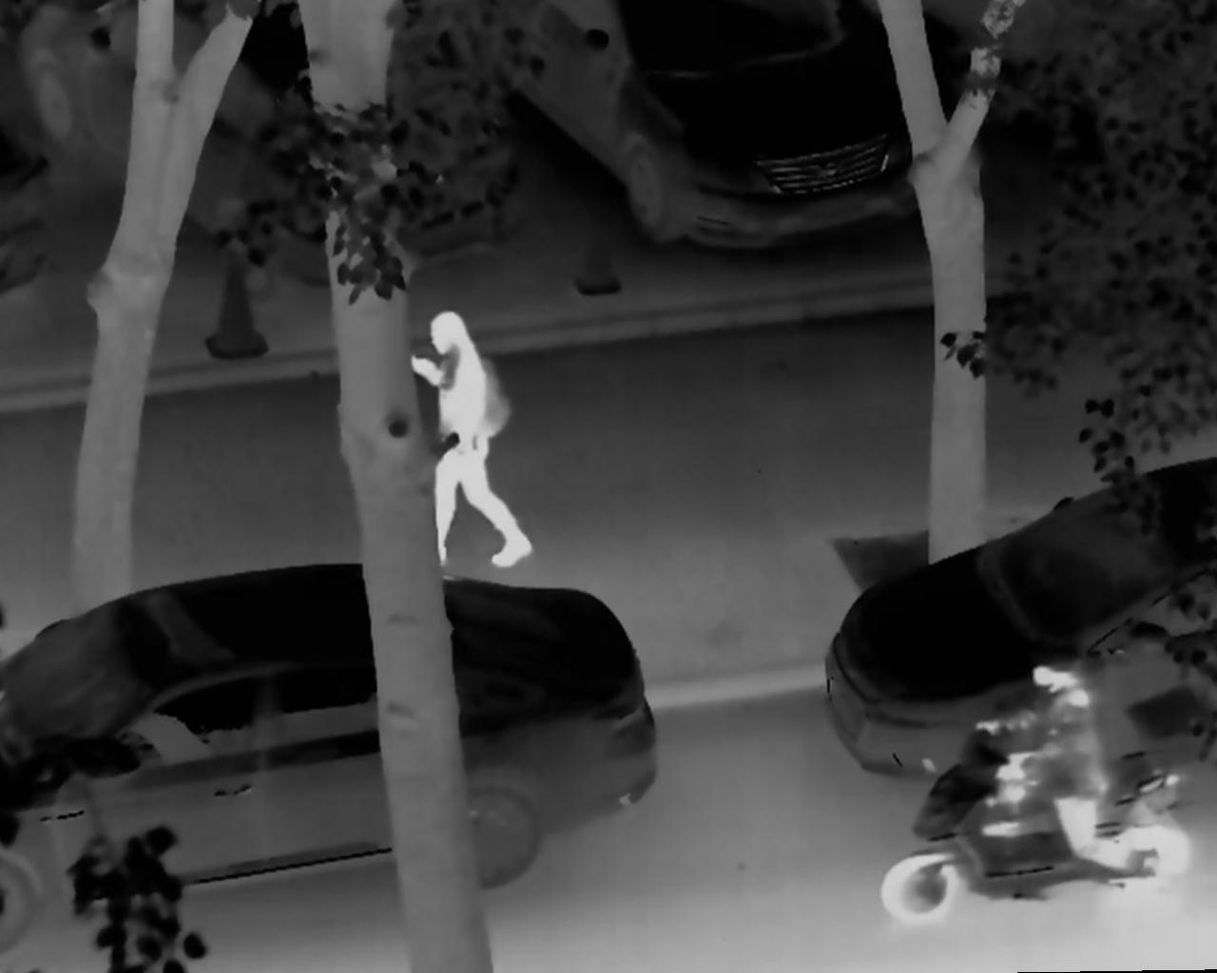person: (967, 639, 1163, 896), (404, 305, 532, 573)
